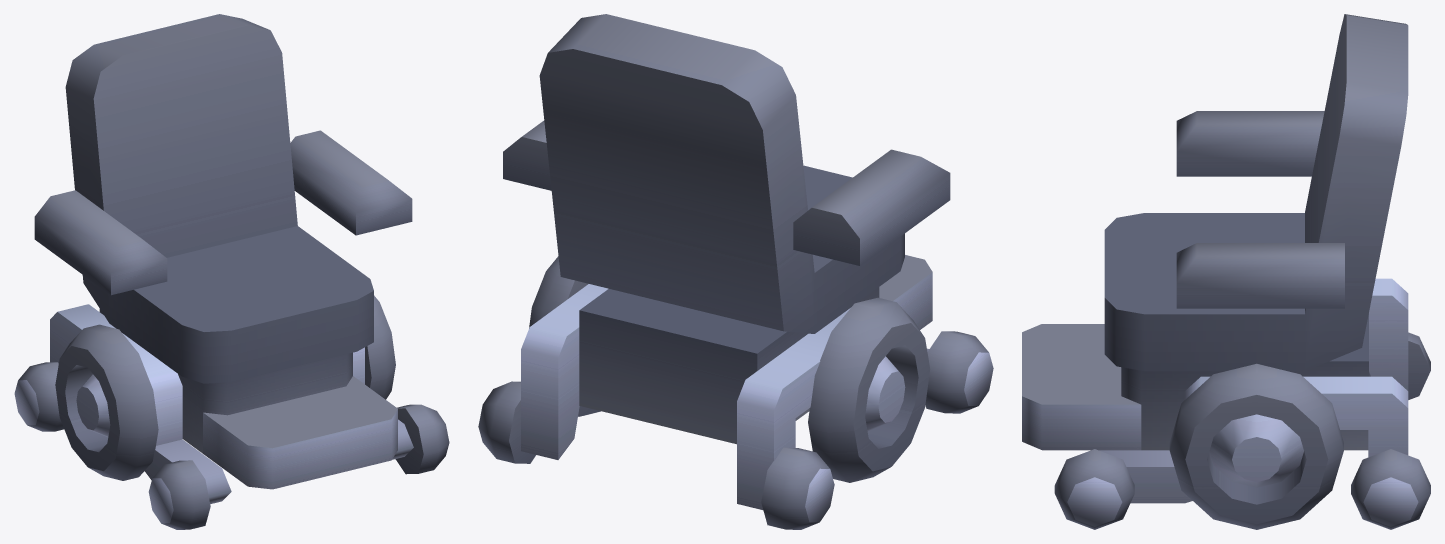
The model's file is wheelchair-power.glb.
The picture shows the model from 3 angles, left to right: view 1: azimuth 30°, elevation 25°; view 2: azimuth 150°, elevation 25°; view 3: azimuth 270°, elevation 25°; orthographic projection. The views are drawn at different scales.
Parts seen in each view (by area): view 1: wheelchair-power; view 2: wheelchair-power; view 3: wheelchair-power.
Part boxes in pixels (x1,y1,x2,y2): wheelchair-power: (14,14,449,529); wheelchair-power: (478,14,993,529); wheelchair-power: (1022,14,1430,529).
Size of the model in its own units: 0.48 by 0.5717 by 0.511.
Materials: 1 (1 with a texture image).
